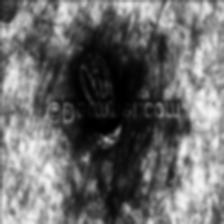Toxin: (75, 46, 120, 136)
